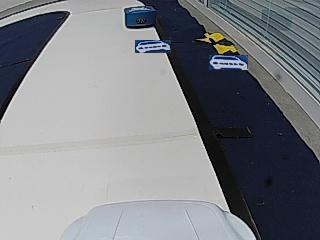prop: (125, 6, 156, 29)
